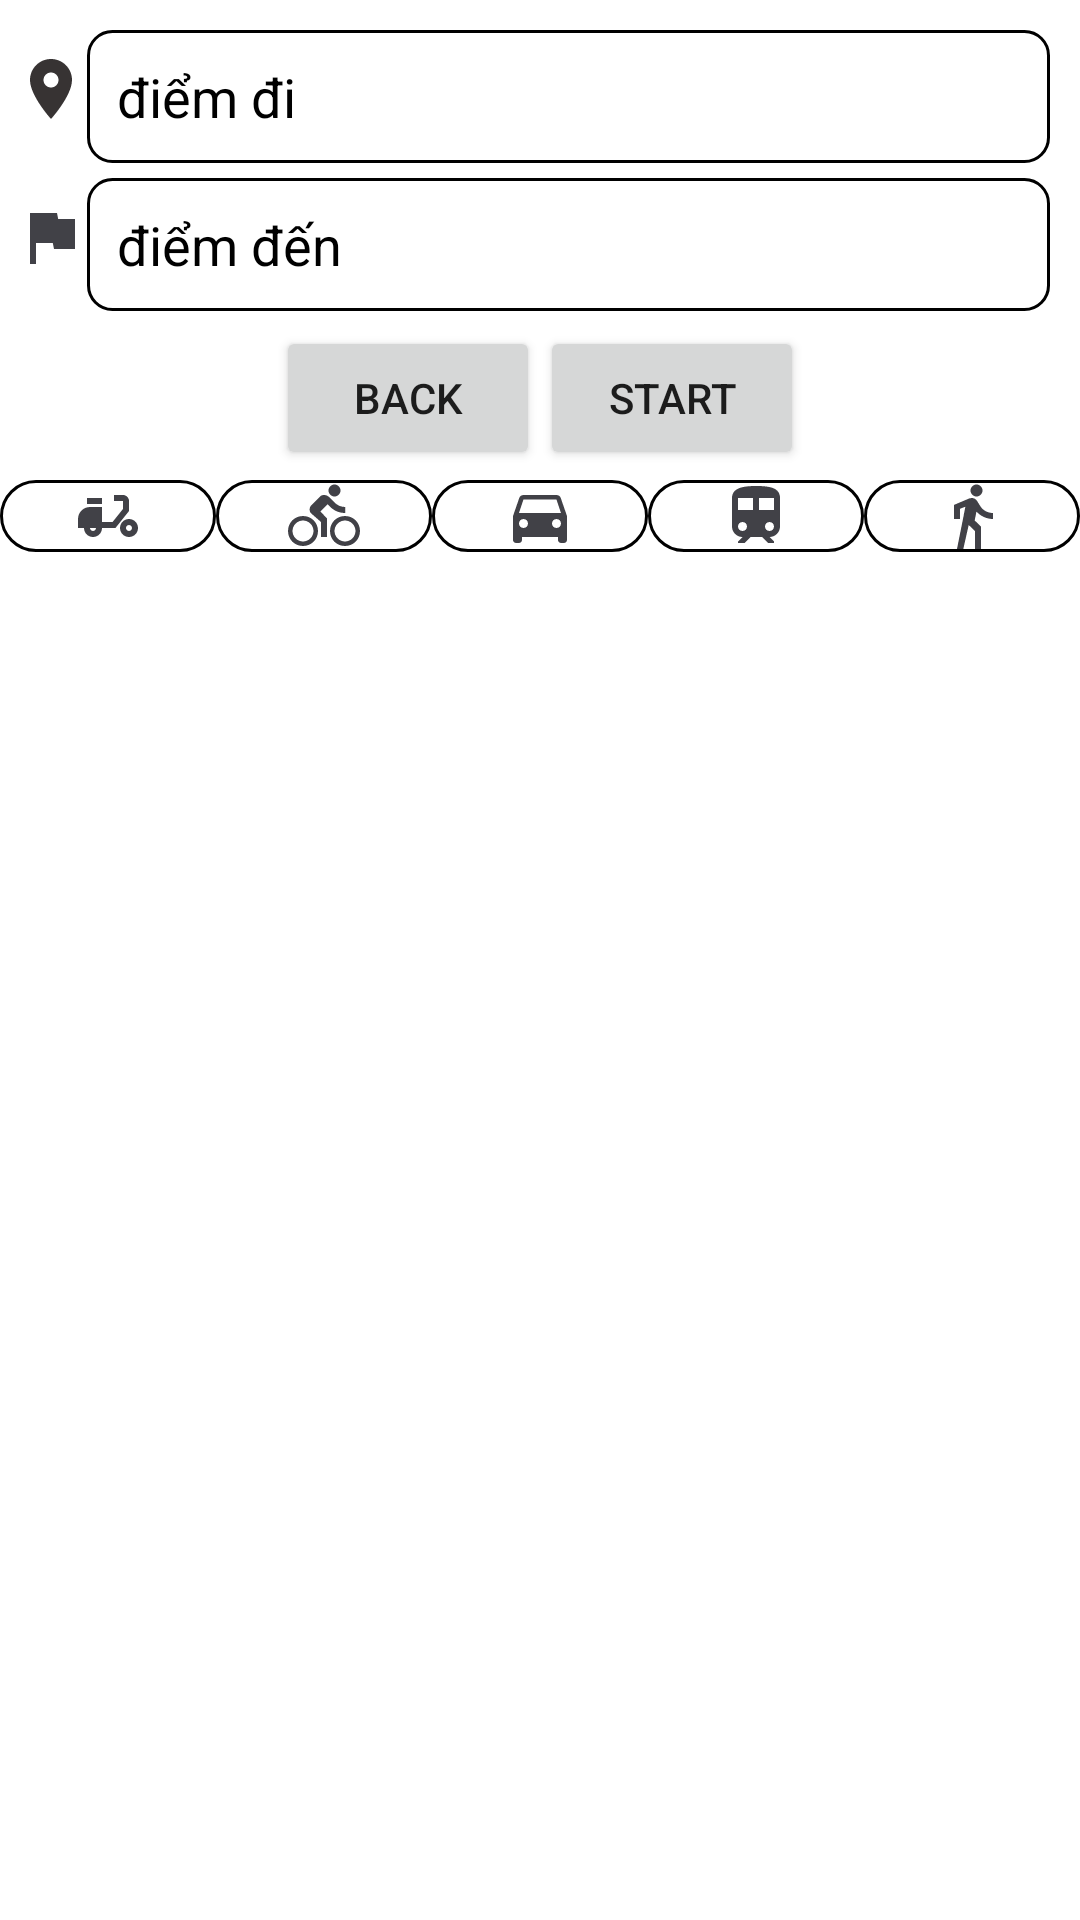

Icon click points for this 1080x1920 phone screenshot, format point (x, y):
directions bike: point (324, 516)
directions car: point (540, 516)
directions walk: point (972, 516)
flag: point (52, 238)
location on: point (51, 89)
moped: point (108, 516)
train: point (756, 514)
